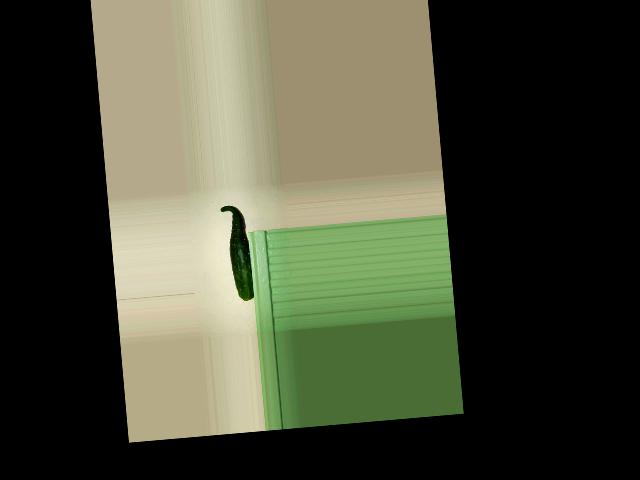cucumber: (220, 203, 254, 302)
